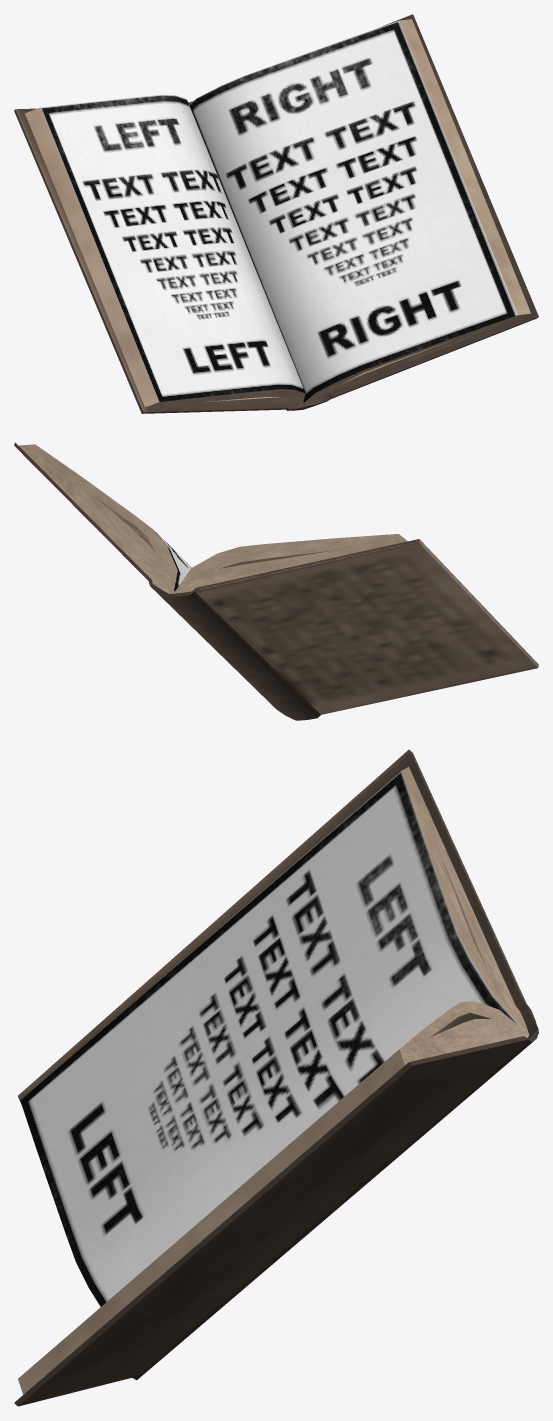
Rendered from book.gltf.
3 views of the same model, one above another, from view 1: azimuth 30°, elevation 25°; view 2: azimuth 150°, elevation 25°; view 3: azimuth 270°, elevation 25° (orthographic). The views are drawn at different scales.
Visible parts, largest first — view 1: polySurface2; view 2: polySurface2; view 3: polySurface2.
Boxes of the visible parts, x1=… form: polySurface2: x1=14, y1=14, x2=538, y2=413; polySurface2: x1=14, y1=442, x2=538, y2=720; polySurface2: x1=14, y1=749, x2=538, y2=1406.
Bounding box in the file's own units: 1.29 × 0.8938 × 0.9201.
2 materials, 2 textured.
